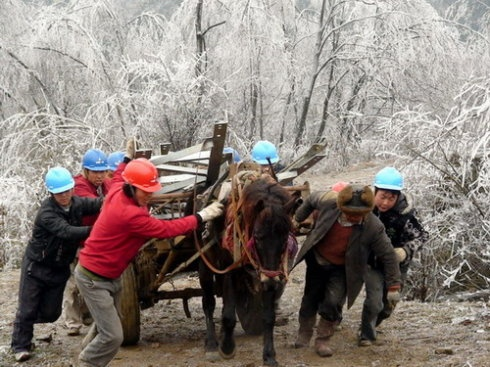blue: (369, 166, 404, 211), (41, 167, 75, 205), (79, 149, 109, 186), (251, 139, 278, 173)
red: (122, 156, 159, 206)
